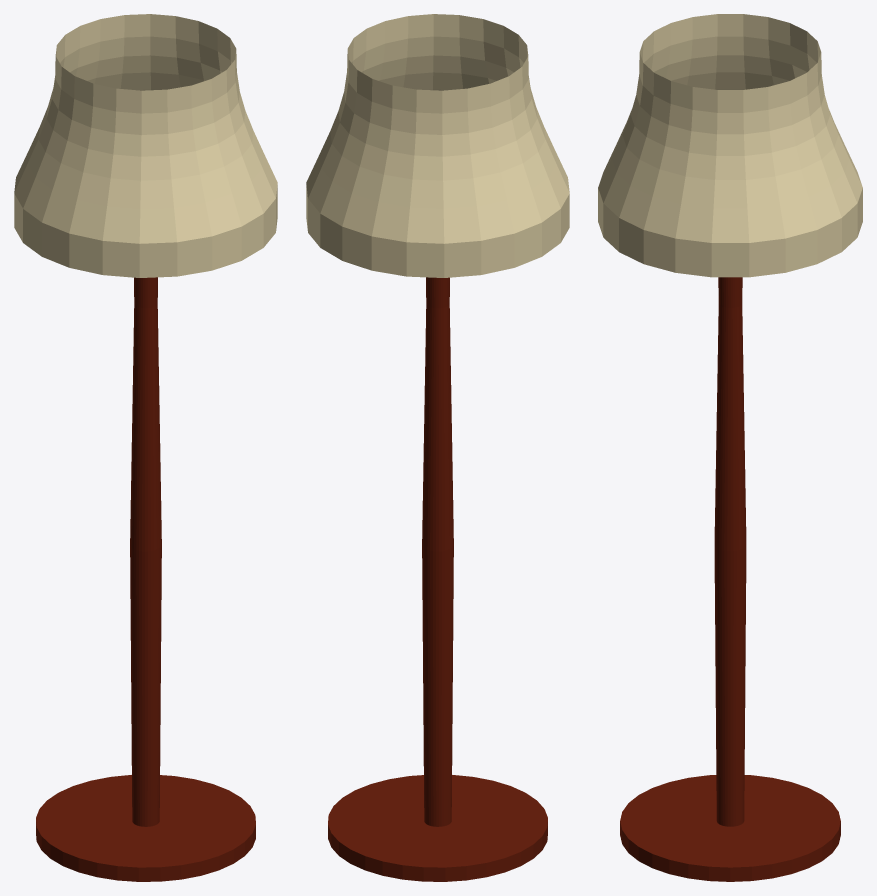
The model's file is lamp.glb.
The picture shows the model from 3 angles, left to right: view 1: azimuth 30°, elevation 25°; view 2: azimuth 150°, elevation 25°; view 3: azimuth 270°, elevation 25°; orthographic projection.
Visible parts, largest first — view 1: Cylinder.002, Cylinder; view 2: Cylinder.002, Cylinder; view 3: Cylinder.002, Cylinder.
Part boxes in pixels (bbox=[...]): Cylinder.002: bbox=[14, 14, 277, 277]; Cylinder: bbox=[36, 277, 255, 881]; Cylinder.002: bbox=[306, 14, 569, 277]; Cylinder: bbox=[328, 277, 547, 881]; Cylinder.002: bbox=[598, 14, 862, 277]; Cylinder: bbox=[620, 277, 840, 881].
Size of the model in its own units: 0.4422 by 1.46 by 0.4468.
